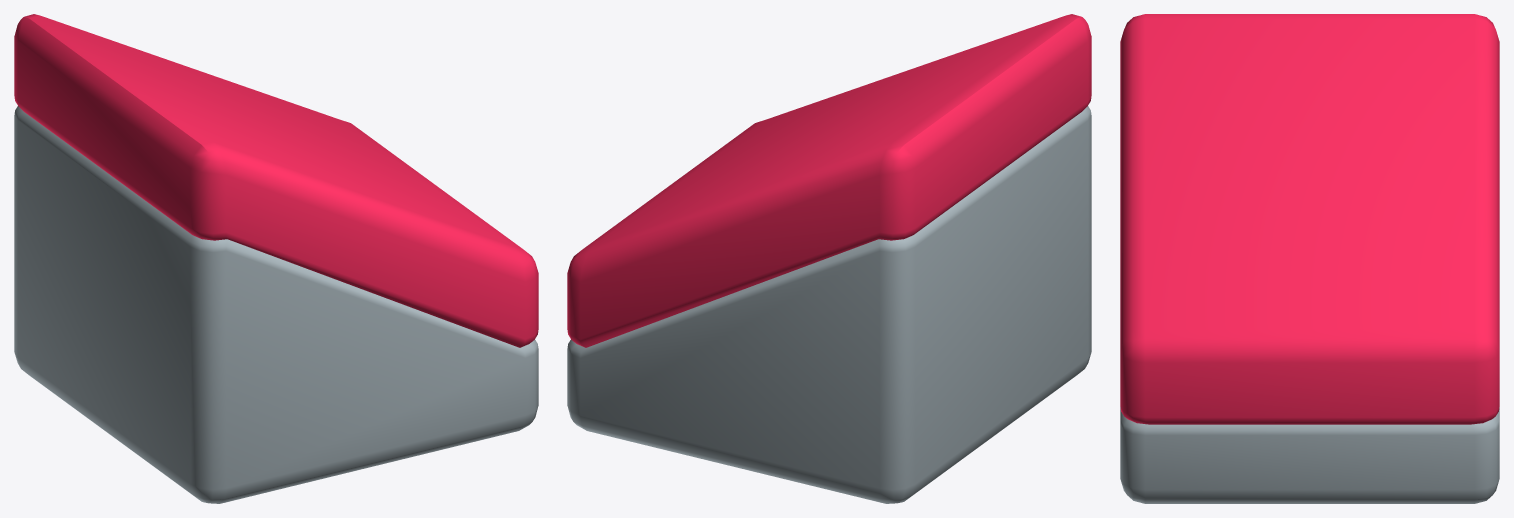
The model's file is tileSlopeLowHigh_teamRed-col.glb.
The picture shows the model from 3 angles, left to right: view 1: azimuth 30°, elevation 25°; view 2: azimuth 150°, elevation 25°; view 3: azimuth 270°, elevation 25°; orthographic projection. The views are drawn at different scales.
Visible parts, largest first — view 1: tileSlopeLowHigh_teamRed-col; view 2: tileSlopeLowHigh_teamRed-col; view 3: tileSlopeLowHigh_teamRed-col.
Boxes of the visible parts, <box> form: tileSlopeLowHigh_teamRed-col: <box>14,14,538,503</box>; tileSlopeLowHigh_teamRed-col: <box>567,14,1091,503</box>; tileSlopeLowHigh_teamRed-col: <box>1120,14,1499,503</box>.
Bounding box in the file's own units: 2 × 2 × 2.
